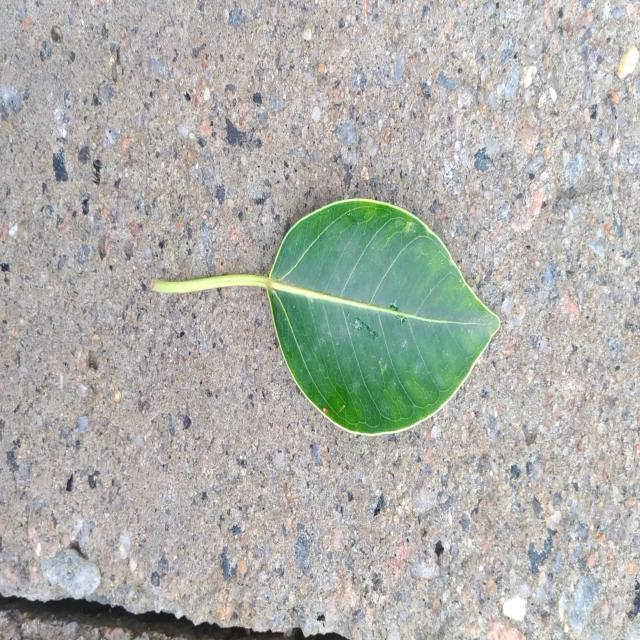camphor: (221, 200, 499, 433)
